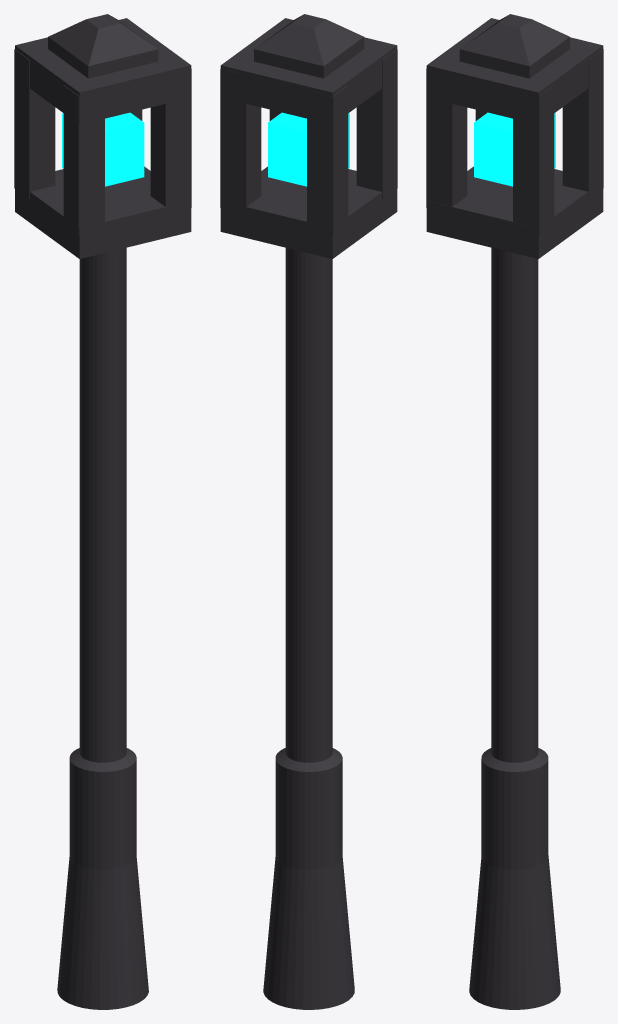
Rendered from street_lamp.fbx.
The picture shows the model from 3 angles, left to right: view 1: azimuth 30°, elevation 25°; view 2: azimuth 150°, elevation 25°; view 3: azimuth 330°, elevation 25°; orthographic projection.
Visible parts, largest first — view 1: lantern; view 2: lantern; view 3: lantern.
Part boxes in pixels (x1=…): lantern: x1=14, y1=14, x2=191, y2=1009; lantern: x1=220, y1=14, x2=397, y2=1009; lantern: x1=426, y1=14, x2=603, y2=1009.
Bounding box in the file's own units: 57.24 × 469 × 56.75.
